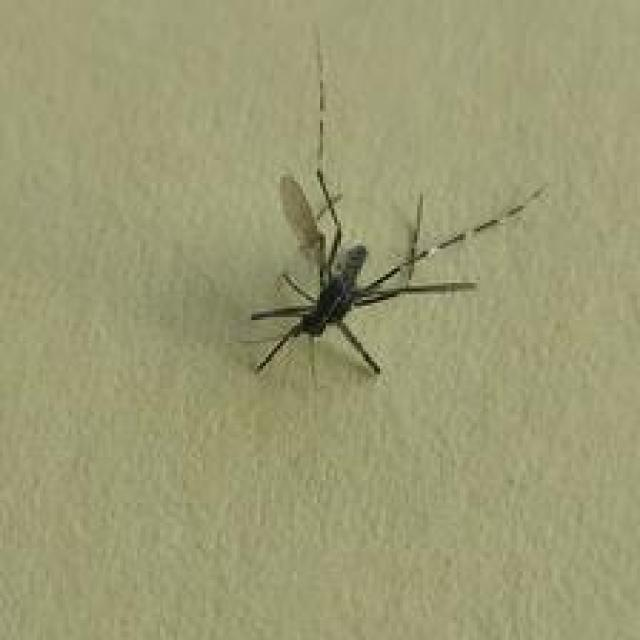Aedes albopictus: (232, 20, 548, 386)
